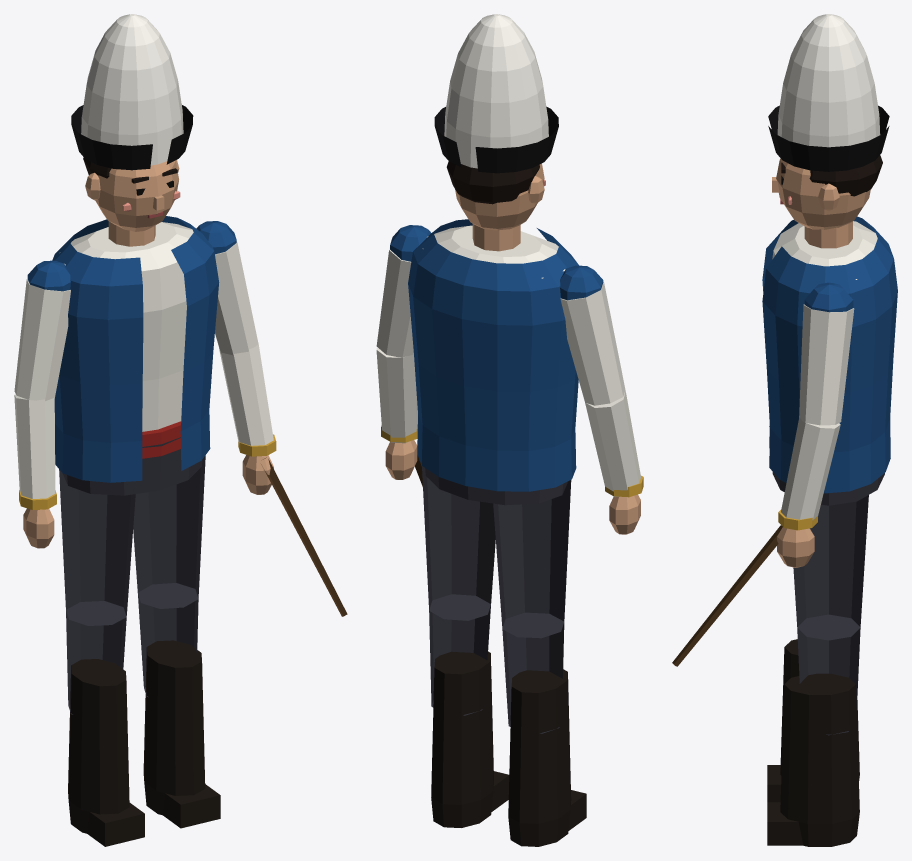
File: NPC_Chabandes.obj
The picture shows the model from 3 angles, left to right: view 1: azimuth 30°, elevation 25°; view 2: azimuth 150°, elevation 25°; view 3: azimuth 270°, elevation 25°; orthographic projection.
Visible parts, largest first — view 1: NPC_Chabandes; view 2: NPC_Chabandes; view 3: NPC_Chabandes.
Boxes of the visible parts, <box> form: NPC_Chabandes: <box>14,14,347,846</box>; NPC_Chabandes: <box>376,14,643,846</box>; NPC_Chabandes: <box>672,14,897,846</box>.
Bounding box in the file's own units: 0.6748 × 1.93 × 0.4926.
